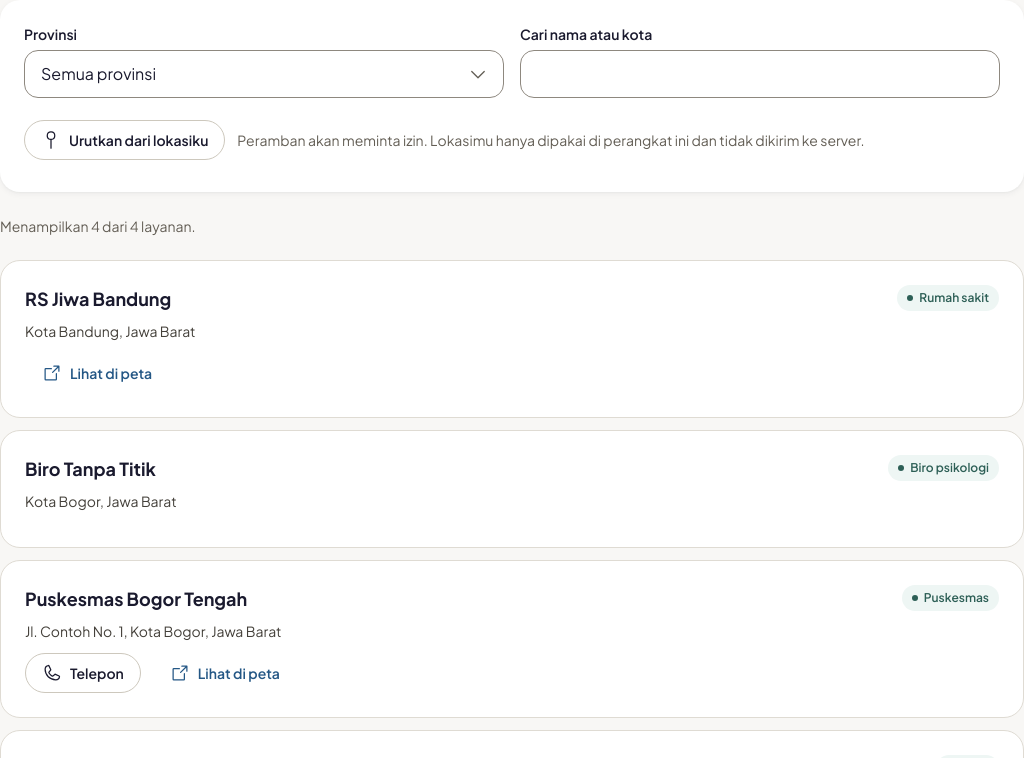
Scenario: FacilityDirectory › mencari menurut nama, kota, atau alamat; tanpa hasil menampilkan ajakan, bukan jalan buntu
The image size is (1024, 758).
Step 1. Type "bandung" into the search field labelled "Cari nama atau kota" → point(760, 74), box [520,50,1000,98]
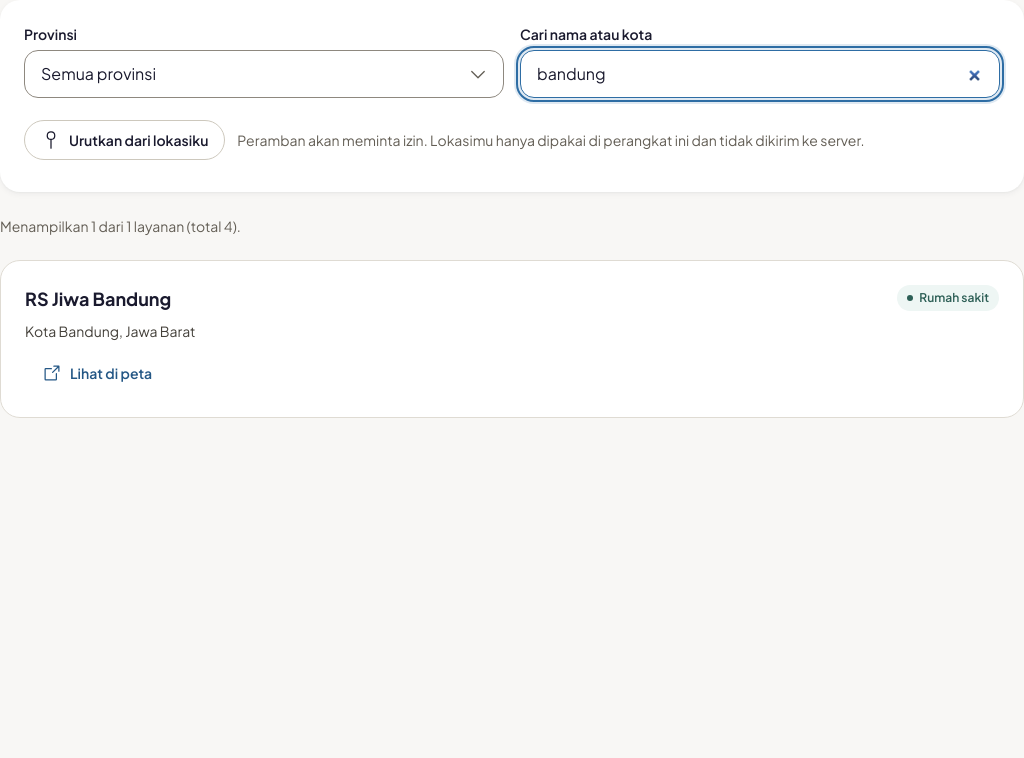
Step 2. Replace the text in the search field labelled "Cari nama atau kota" with "contoh no" → point(760, 74), box [520,50,1000,98]
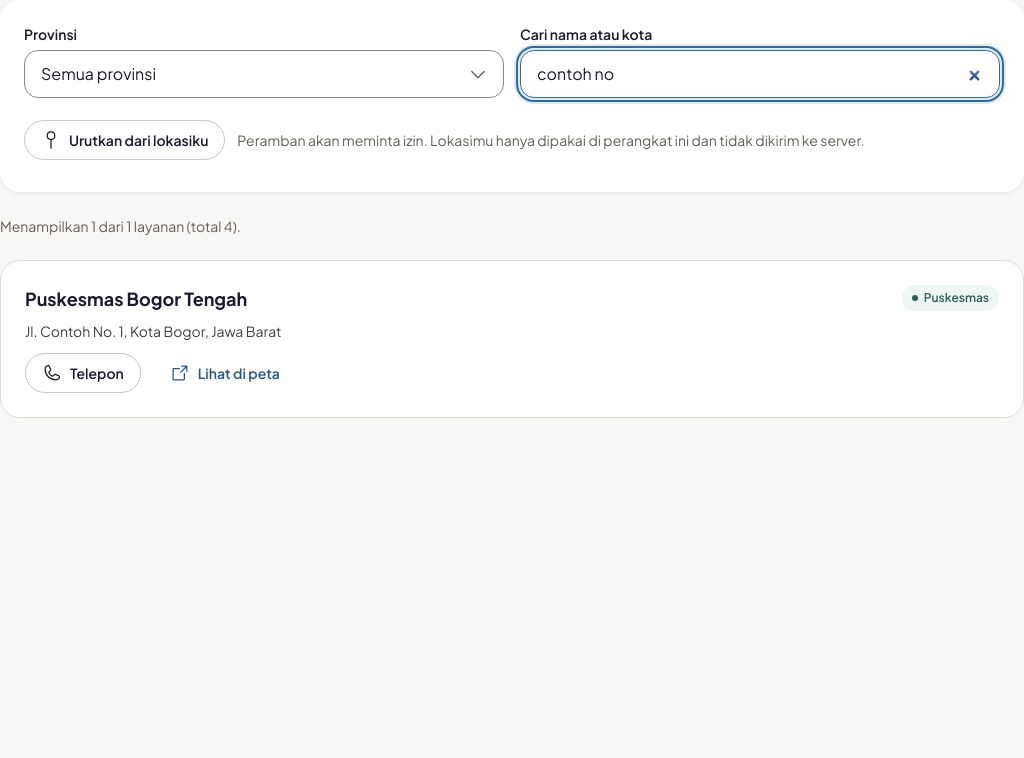
Step 3. Replace the text in the search field labelled "Cari nama atau kota" with "tidak ada" → point(760, 74), box [520,50,1000,98]
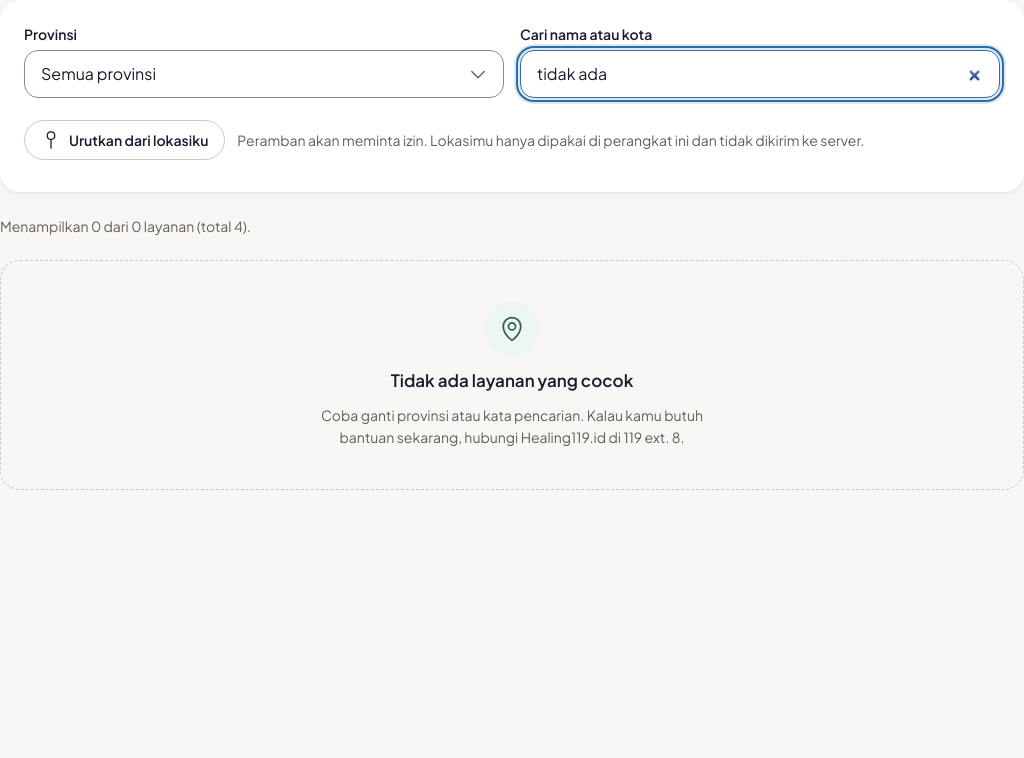
Expected: the heading "Tidak ada layanan yang cocok" is shown, [391,369,633,392]
Expected: the text "Healing119.id di 119 ext. 8" is shown, [321,406,703,446]
